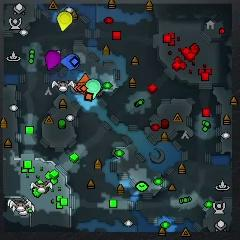p1: (60, 53, 80, 71)
p2: (86, 79, 101, 100)
p3: (45, 51, 60, 70)
p4: (57, 11, 72, 31)
p5: (78, 74, 92, 92)
